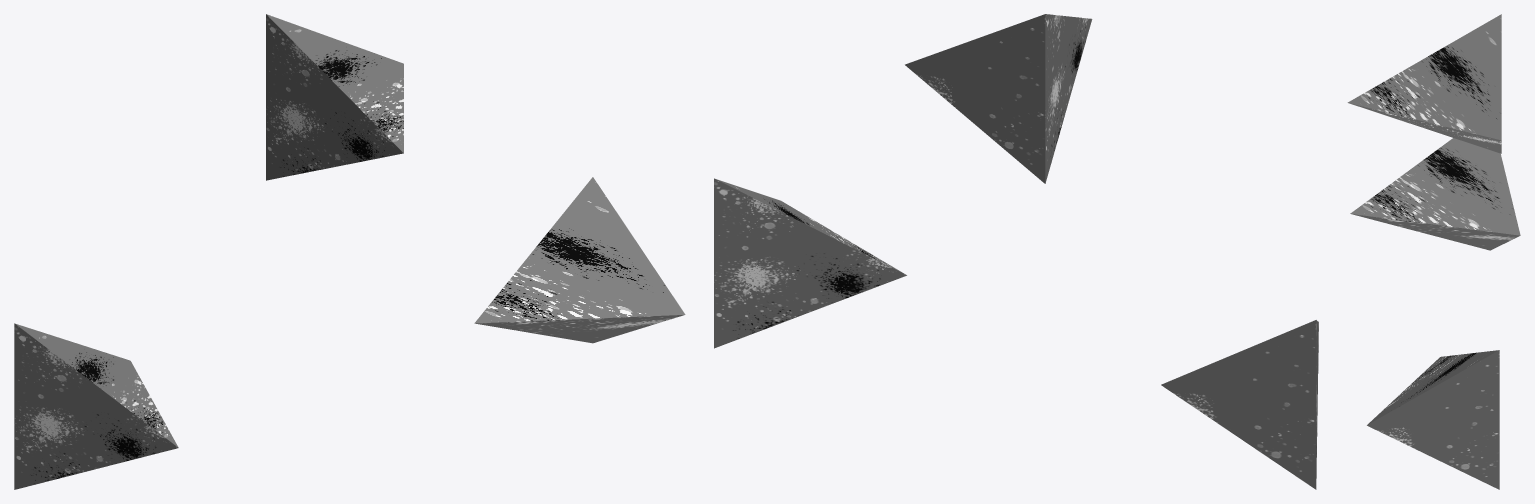
File: texturedPyramidsGrey.fbx
The picture shows the model from 3 angles, left to right: view 1: azimuth 30°, elevation 25°; view 2: azimuth 150°, elevation 25°; view 3: azimuth 270°, elevation 25°; orthographic projection. The views are drawn at different scales.
Parts seen in each view (by area): view 1: pPlatonic7, pPlatonic3, pPlatonic6; view 2: pPlatonic6, pPlatonic3, pPlatonic7; view 3: pPlatonic6, pPlatonic7, pPlatonic3.
Boxes of the visible parts, x1,y1,x2,y2 form: pPlatonic7: (14,323,178,489); pPlatonic3: (266,14,403,180); pPlatonic6: (474,177,685,343); pPlatonic6: (714,178,906,348); pPlatonic3: (905,14,1092,183); pPlatonic7: (1161,320,1318,489); pPlatonic6: (1367,350,1499,489); pPlatonic7: (1350,138,1520,250); pPlatonic3: (1347,14,1501,153).
Size of the model in its own units: 5.63 by 3.67 by 1.68.
Materials: 1 (1 with a texture image).
